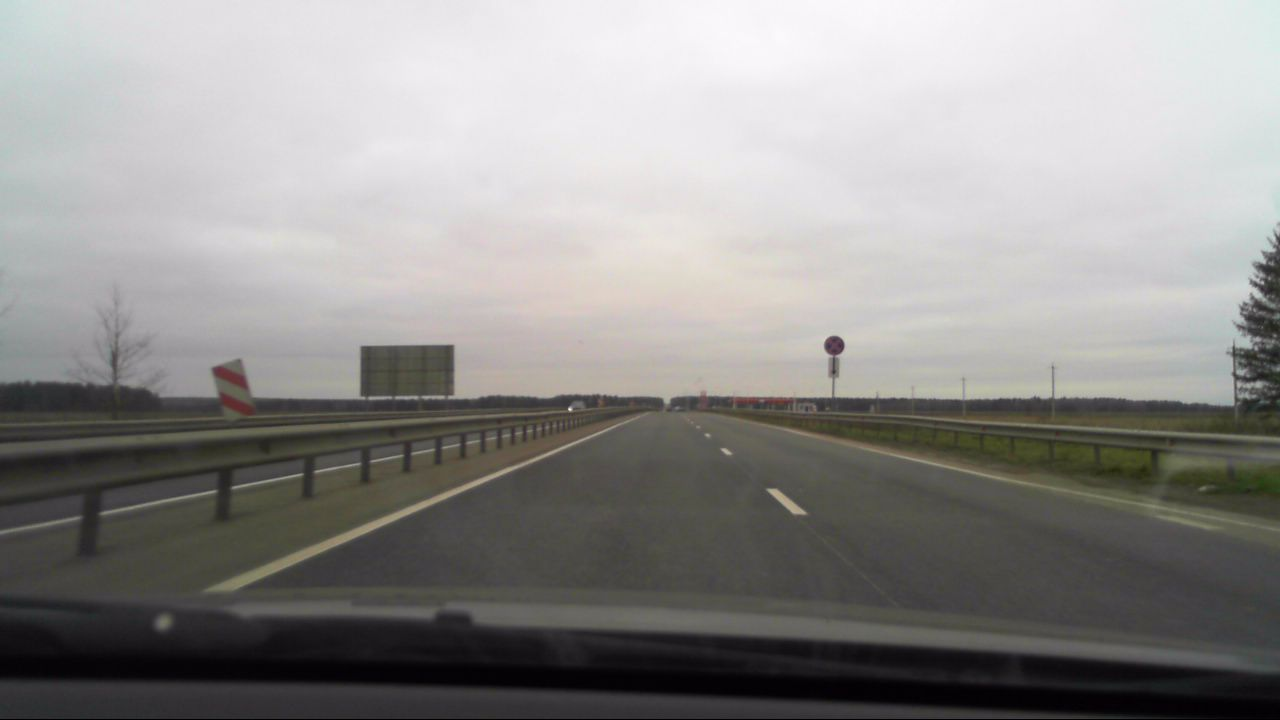No Parking: (824, 335, 845, 355)
